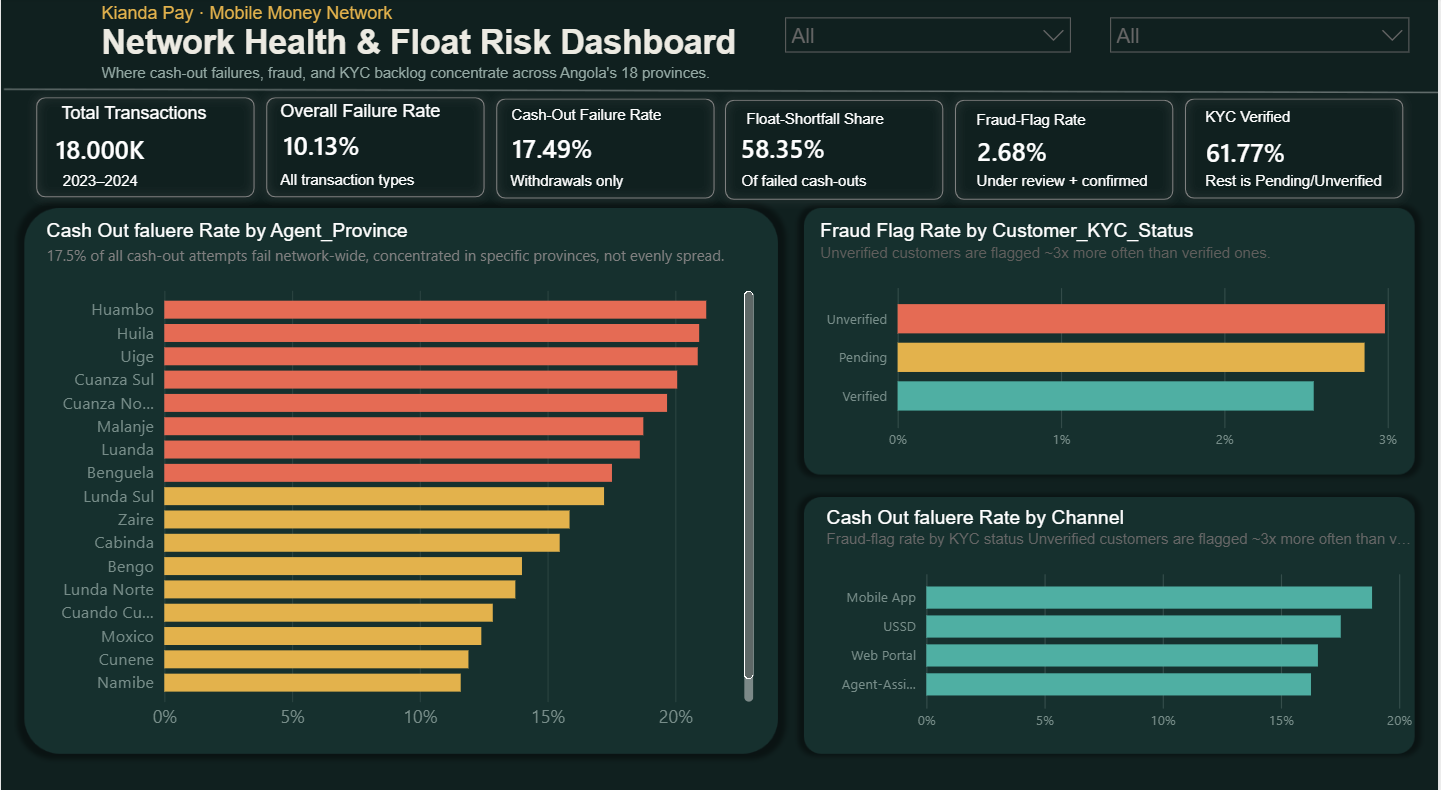

The page's visual inventory and layout, read from the dashboard file:
{"tool":"powerbi","page":{"name":"Dashboard","canvas":[1280,720],"ordinal":0},"visuals":[{"type":"group","id":"g1","title":"Group 1","box":[27.8,80.1,1233.4,118],"z":0},{"type":"shape","box":[27.8,80.6,210.4,105.1],"z":0,"group":"g1"},{"type":"barChart","fields":{"Y":["Metrics.Cash Out faluere Rate"],"Category":["dAgent.Agent_Province"]},"box":[39.3,197.7,639.5,464],"z":0,"group":"g2"},{"type":"group","id":"g2","title":"Group 3","box":[20,0,1243.4,662.2],"z":1000},{"type":"shape","box":[232.4,80.1,210.4,105.1],"z":1000,"group":"g1"},{"type":"barChart","fields":{"Y":["Metrics.Fraud Flag Rate"],"Category":["dCustumer.Customer_KYC_Status"]},"box":[727.7,197.7,534.9,220.9],"z":1000,"group":"g2"},{"type":"slicer","title":"CHOOSE PROVINCE ","fields":{"Values":["dAgent.Agent_Province"]},"box":[687.5,8.2,274.4,57.6],"z":2000},{"type":"shape","box":[437.1,81,210.4,105.1],"z":2000,"group":"g1"},{"type":"barChart","fields":{"Y":["Metrics.Cash Out faluere Rate"],"Category":["dCustumer.Channel"]},"box":[730,453.5,532,208.7],"z":2000,"group":"g2"},{"type":"slicer","fields":{"Values":["fTransation.Year"]},"box":[977,11,286.8,45.3],"z":3000},{"type":"shape","box":[641.7,82,210.4,105.1],"z":3000,"group":"g1"},{"type":"shape","box":[846.3,82.5,210.4,105.1],"z":4000,"group":"g1"},{"type":"group","id":"g3","title":"Group 2","box":[20,87.9,1243.4,146],"z":4000,"group":"g2"},{"type":"cardVisual","fields":{"Data":["Metrics.Totat de Transacoes"]},"box":[20,99.1,185.9,68.6],"z":4000,"group":"g3"},{"type":"textbox","box":[84.5,0,650.1,111.3],"z":5000,"group":"g2"},{"type":"shape","box":[1051,81.5,210.4,105.1],"z":5000,"group":"g1"},{"type":"textbox","box":[49,88.8,173.5,44.2],"z":5000,"group":"g3"},{"type":"cardVisual","fields":{"Data":["Metrics.Overal Failure Rate"]},"box":[222.2,94.1,151.1,72.4],"z":6000,"group":"g3"},{"type":"textbox","box":[244.3,87.9,166.2,34.9],"z":7000,"group":"g3"},{"type":"textbox","box":[50.2,149.1,125.5,34.9],"z":8000,"group":"g3"},{"type":"textbox","box":[244.3,147.8,195.2,86.1],"z":9000,"group":"g3"},{"type":"cardVisual","fields":{"Data":["Metrics.Cash Out faluere Rate"]},"box":[426.7,102.9,158,61.2],"z":10000,"group":"g3"},{"type":"textbox","box":[450.1,90.2,196.4,34.9],"z":11000,"group":"g3"},{"type":"textbox","box":[448.8,149.1,196.4,34.9],"z":12000,"group":"g3"},{"type":"cardVisual","fields":{"Data":["Metrics.Float Shortfall Share"]},"box":[630.1,101.6,138.3,64.9],"z":13000,"group":"g3"},{"type":"textbox","box":[658.4,93.2,197,36.7],"z":14000,"group":"g3"},{"type":"textbox","box":[654.5,149.1,196.4,34.9],"z":15000,"group":"g3"},{"type":"cardVisual","fields":{"Data":["Metrics.Fraud Flag Rate"]},"box":[840.4,104.1,130.2,62.4],"z":16000,"group":"g3"},{"type":"textbox","box":[863.7,94.1,196.4,36.2],"z":17000,"group":"g3"},{"type":"textbox","box":[863.7,149.1,196.4,34.9],"z":18000,"group":"g3"},{"type":"cardVisual","fields":{"Data":["Metrics.% KYC"]},"box":[1043.8,105.4,180.1,62.4],"z":19000,"group":"g3"},{"type":"textbox","box":[1067,92.9,196.4,34.9],"z":20000,"group":"g3"},{"type":"textbox","box":[1067,149.1,196.4,34.9],"z":21000,"group":"g3"}]}

Visuals, with their boxes in screenshot pixels (x1, y1, x2, y2), scaled from the page's 1280x720 canvas onto the 1441x790 screenshot:
"Group 1" group: pyautogui.locateOnScreen(31, 88, 1420, 217)
shape: pyautogui.locateOnScreen(31, 88, 268, 204)
barChart - Metrics.Cash Out faluere Rate x dAgent.Agent_Province: pyautogui.locateOnScreen(44, 217, 764, 726)
"Group 3" group: pyautogui.locateOnScreen(23, 0, 1422, 727)
shape: pyautogui.locateOnScreen(262, 88, 498, 203)
barChart - Metrics.Fraud Flag Rate x dCustumer.Customer_KYC_Status: pyautogui.locateOnScreen(819, 217, 1421, 459)
"CHOOSE PROVINCE " slicer: pyautogui.locateOnScreen(774, 9, 1083, 72)
shape: pyautogui.locateOnScreen(492, 89, 729, 204)
barChart - Metrics.Cash Out faluere Rate x dCustumer.Channel: pyautogui.locateOnScreen(822, 498, 1421, 727)
slicer - fTransation.Year: pyautogui.locateOnScreen(1100, 12, 1423, 62)
shape: pyautogui.locateOnScreen(722, 90, 959, 205)
shape: pyautogui.locateOnScreen(953, 91, 1190, 206)
"Group 2" group: pyautogui.locateOnScreen(23, 96, 1422, 257)
cardVisual - Metrics.Totat de Transacoes: pyautogui.locateOnScreen(23, 109, 232, 184)
textbox: pyautogui.locateOnScreen(95, 0, 827, 122)
shape: pyautogui.locateOnScreen(1183, 89, 1420, 205)
textbox: pyautogui.locateOnScreen(55, 97, 250, 146)
cardVisual - Metrics.Overal Failure Rate: pyautogui.locateOnScreen(250, 103, 420, 183)
textbox: pyautogui.locateOnScreen(275, 96, 462, 135)
textbox: pyautogui.locateOnScreen(57, 164, 198, 202)
textbox: pyautogui.locateOnScreen(275, 162, 495, 257)
cardVisual - Metrics.Cash Out faluere Rate: pyautogui.locateOnScreen(480, 113, 658, 180)
textbox: pyautogui.locateOnScreen(507, 99, 728, 137)
textbox: pyautogui.locateOnScreen(505, 164, 726, 202)
cardVisual - Metrics.Float Shortfall Share: pyautogui.locateOnScreen(709, 111, 865, 183)
textbox: pyautogui.locateOnScreen(741, 102, 963, 143)
textbox: pyautogui.locateOnScreen(737, 164, 958, 202)
cardVisual - Metrics.Fraud Flag Rate: pyautogui.locateOnScreen(946, 114, 1093, 183)
textbox: pyautogui.locateOnScreen(972, 103, 1193, 143)
textbox: pyautogui.locateOnScreen(972, 164, 1193, 202)
cardVisual - Metrics.% KYC: pyautogui.locateOnScreen(1175, 116, 1378, 184)
textbox: pyautogui.locateOnScreen(1201, 102, 1422, 140)
textbox: pyautogui.locateOnScreen(1201, 164, 1422, 202)
